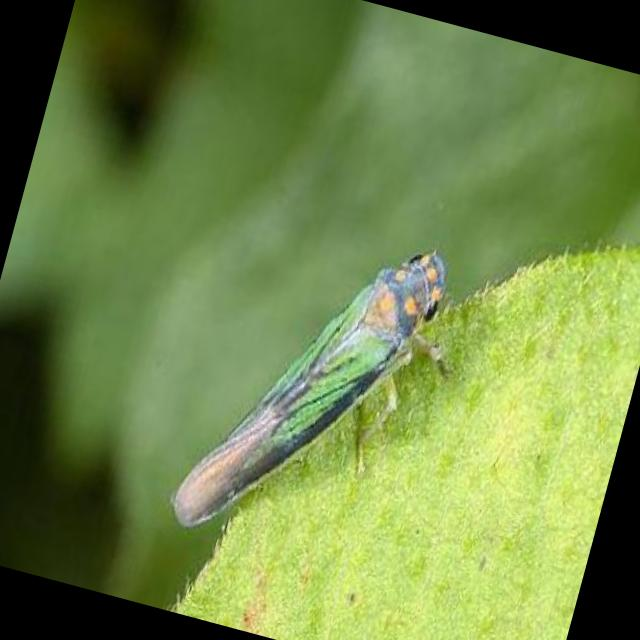green-leafhopper: (165, 250, 450, 528)
